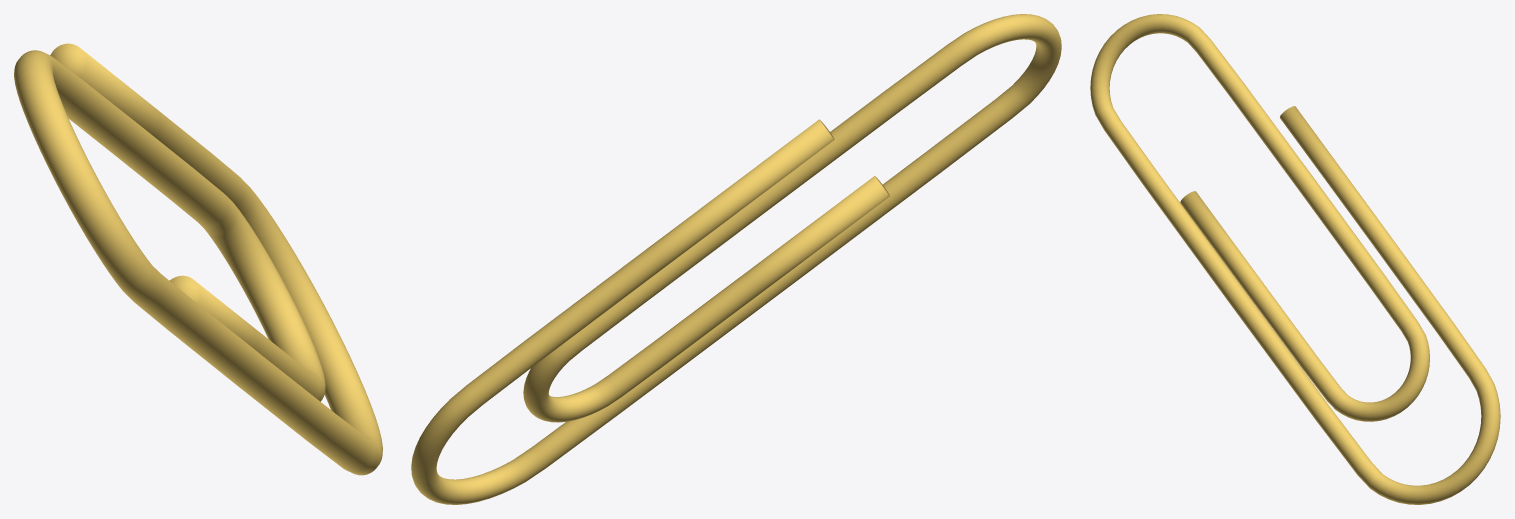
3 views of the same model, side by side, from view 1: azimuth 30°, elevation 25°; view 2: azimuth 150°, elevation 25°; view 3: azimuth 270°, elevation 25° (orthographic). The views are drawn at different scales.
Visible parts, largest first — view 1: Cylinder.010; view 2: Cylinder.010; view 3: Cylinder.010.
Part boxes in pixels (x1,y1,x2,y2): Cylinder.010: (14,43,382,475); Cylinder.010: (411,14,1061,504); Cylinder.010: (1090,14,1500,504).
Size of the model in its own units: 0.4464 by 0.4708 by 0.5.
